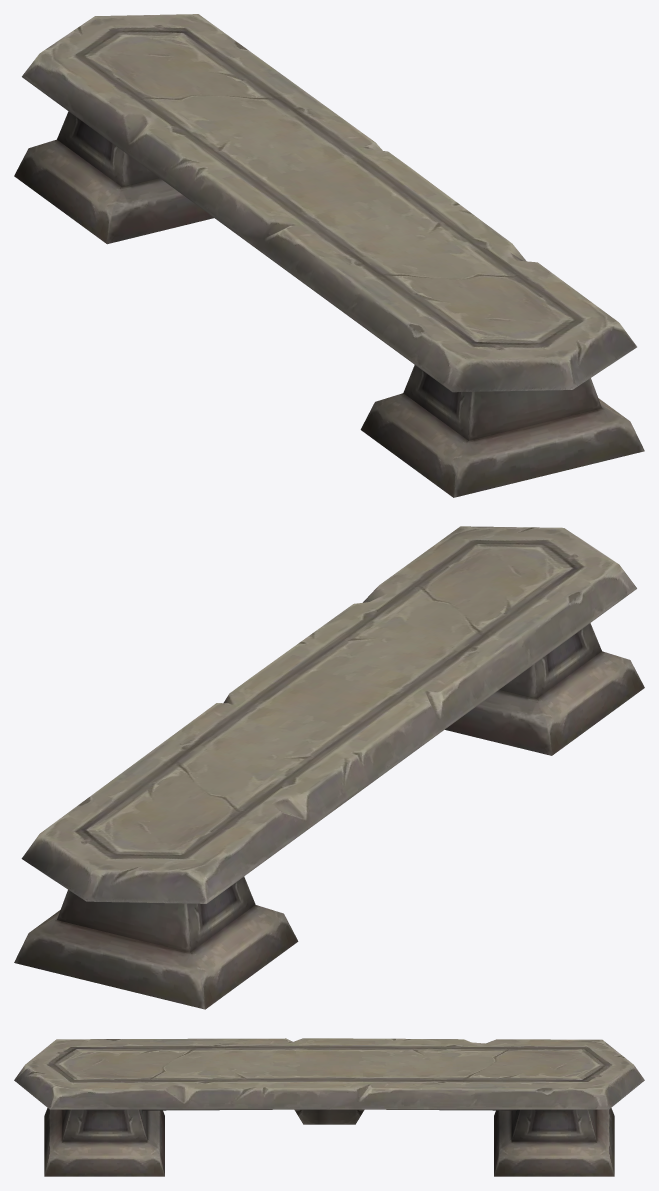
The picture shows the model from 3 angles, top to bottom: view 1: azimuth 30°, elevation 25°; view 2: azimuth 150°, elevation 25°; view 3: azimuth 270°, elevation 25°; orthographic projection. The views are drawn at different scales.
Bounding box in the file's own units: 0.7469 × 0.4762 × 3.29.
1 material, 1 textured.
